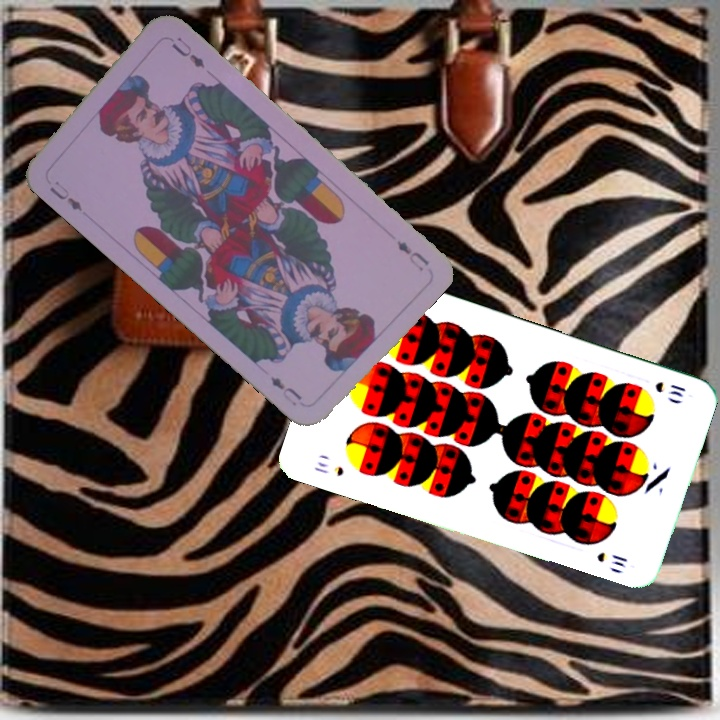EU: (392, 236, 433, 274), (45, 176, 85, 214)
S10: (650, 377, 689, 400), (310, 457, 347, 479)
